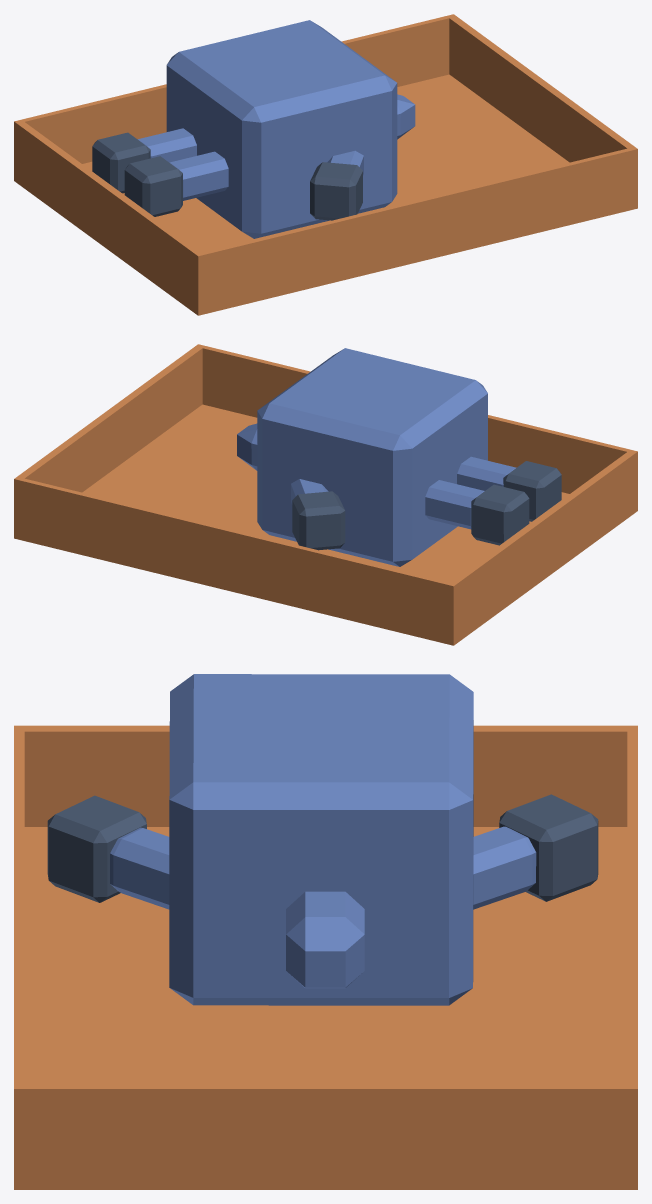
File: RobotOrderOrange.fbx
3 renders of one model, top to bottom at view 1: azimuth 30°, elevation 25°; view 2: azimuth 150°, elevation 25°; view 3: azimuth 270°, elevation 25°, orthographic. The views are drawn at different scales.
Visible parts, largest first — view 1: StandOrange, RobotOrderOrange; view 2: StandOrange, RobotOrderOrange; view 3: StandOrange, RobotOrderOrange.
Part boxes in pixels (bbox=[...]): StandOrange: bbox=[14, 14, 637, 315]; RobotOrderOrange: bbox=[92, 20, 415, 238]; StandOrange: bbox=[14, 344, 637, 645]; RobotOrderOrange: bbox=[237, 348, 561, 566]; StandOrange: bbox=[14, 725, 637, 1189]; RobotOrderOrange: bbox=[47, 674, 598, 1005].
Size of the model in its own units: 45.82 by 14.25 by 33.25.
